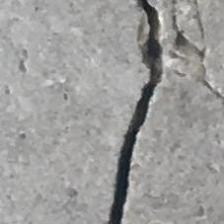Crack: (81, 0, 208, 224)
